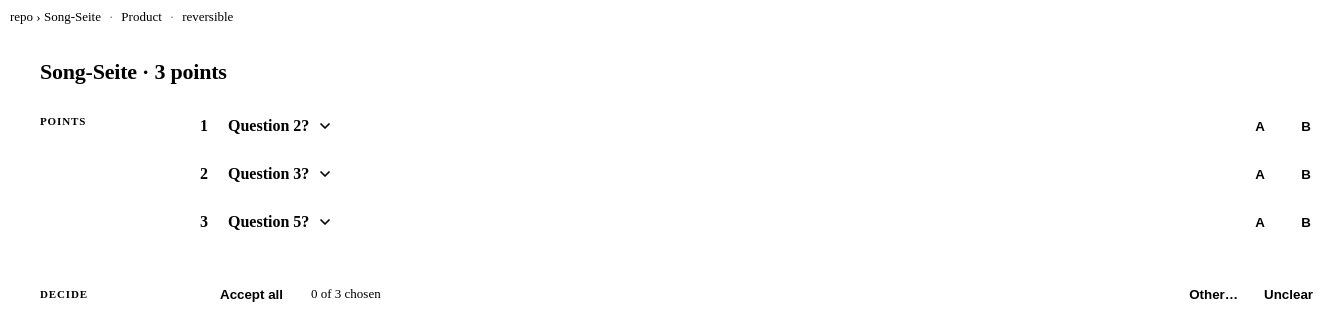
Test: [ABRD-86] a pick marks its point and counts it, and posts nothing
Click the button named "Point 1: B – As today" at (1306, 126), box [1286,110,1326,142]
Wait 16000 ms
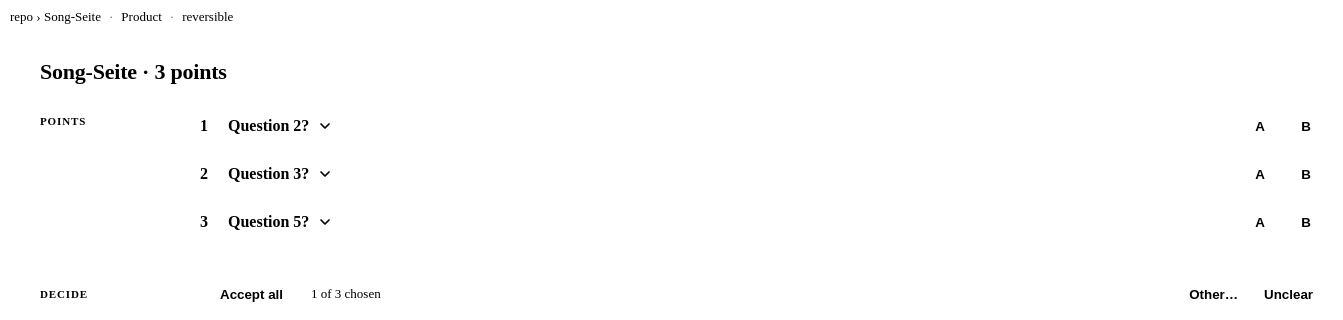
Result: the text "1 of 3 chosen" is shown at [311,285,381,303]
